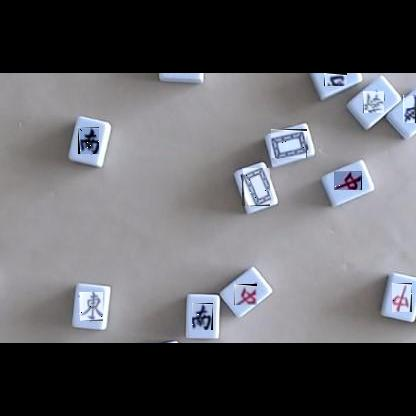1z: (79, 292, 103, 321), (403, 95, 416, 123)
2z: (78, 127, 99, 154), (192, 303, 213, 330), (324, 73, 347, 86)
5z: (242, 168, 270, 206), (271, 129, 307, 158)
6z: (363, 91, 384, 113)
7z: (392, 283, 412, 312), (334, 171, 362, 190), (234, 284, 257, 305)
